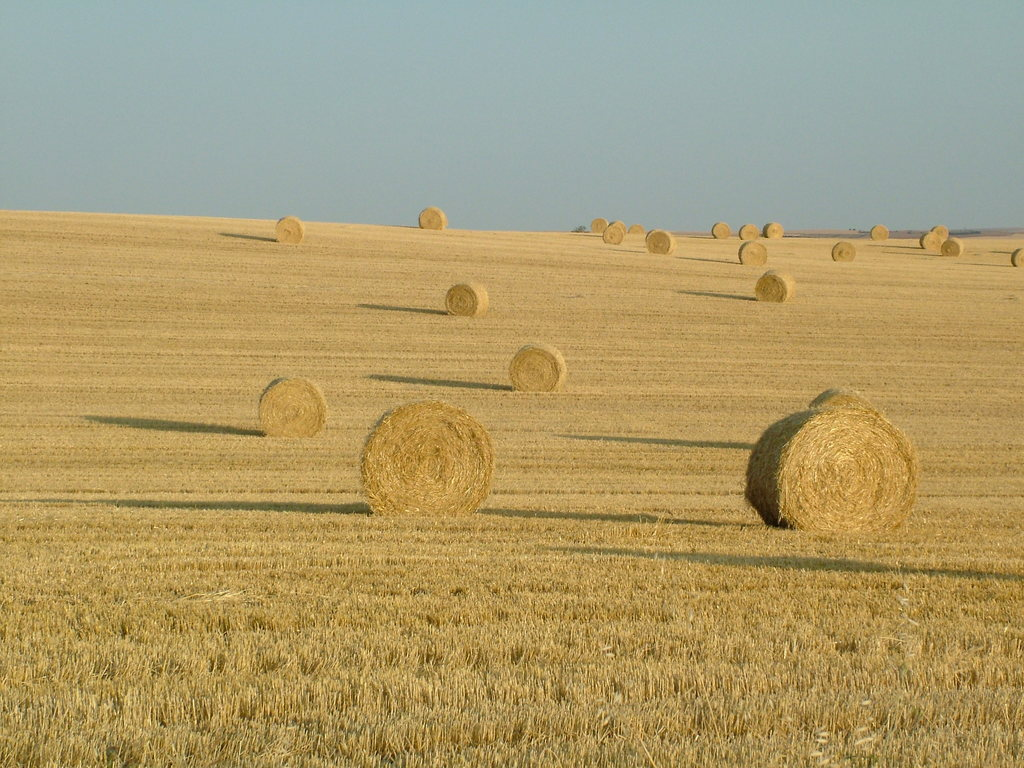person: (355, 399, 499, 516)
